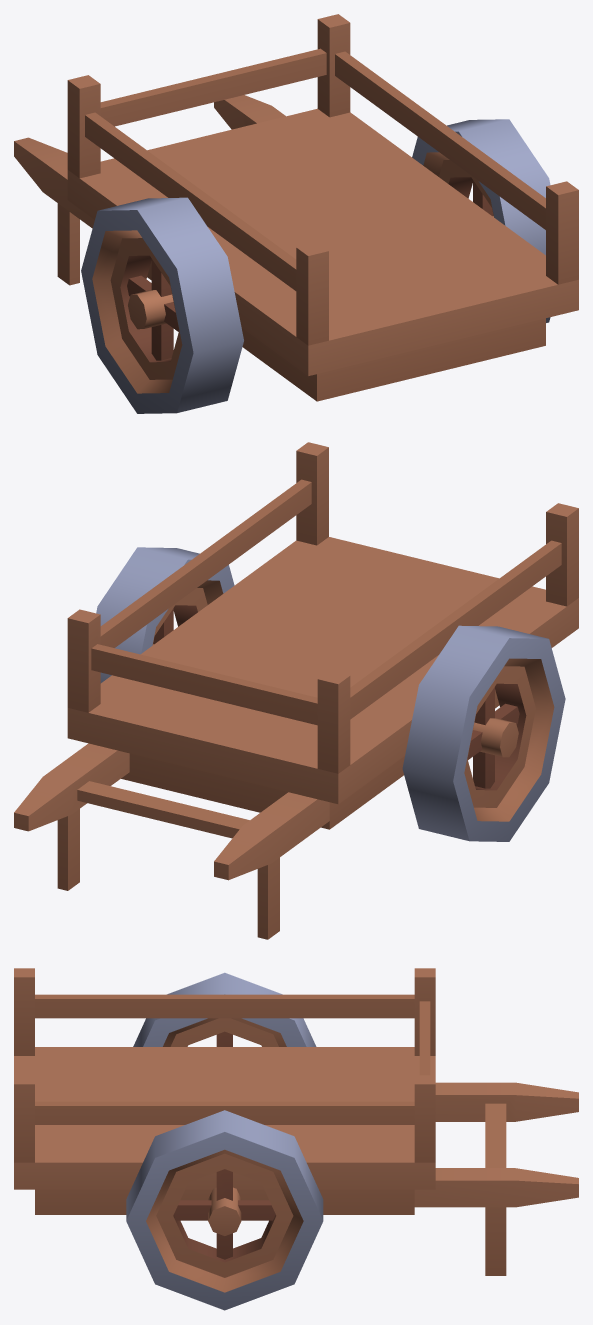
The model's file is town-cart.glb.
3 views of the same model, one above another, from view 1: azimuth 30°, elevation 25°; view 2: azimuth 150°, elevation 25°; view 3: azimuth 270°, elevation 25° (orthographic). The views are drawn at different scales.
Parts seen in each view (by area): view 1: cart, Group; view 2: cart, Group; view 3: cart, Group.
Boxes of the visible parts, left/top/right/bottom form: cart: left=14, top=14, right=578, bottom=401; Group: left=81, top=119, right=550, bottom=413; cart: left=14, top=442, right=578, bottom=939; Group: left=96, top=547, right=565, bottom=841; cart: left=14, top=968, right=578, bottom=1275; Group: left=126, top=972, right=323, bottom=1310.
Size of the model in its own units: 0.893 by 0.5355 by 1.34.
